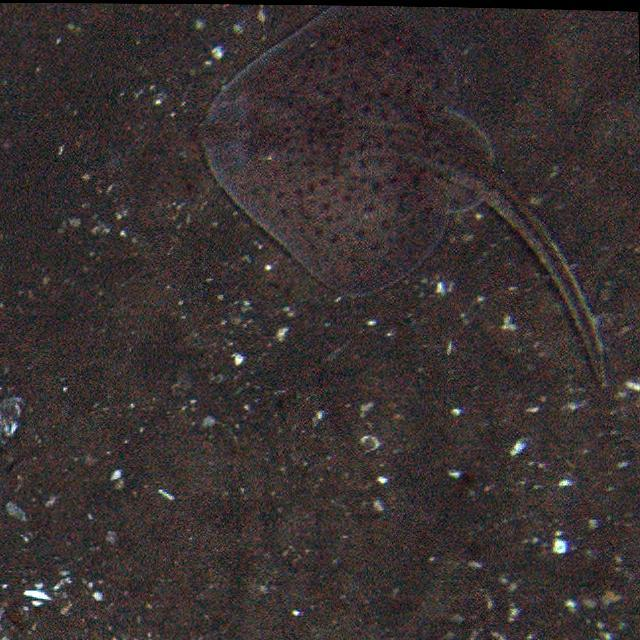skate: (197, 5, 614, 391)
